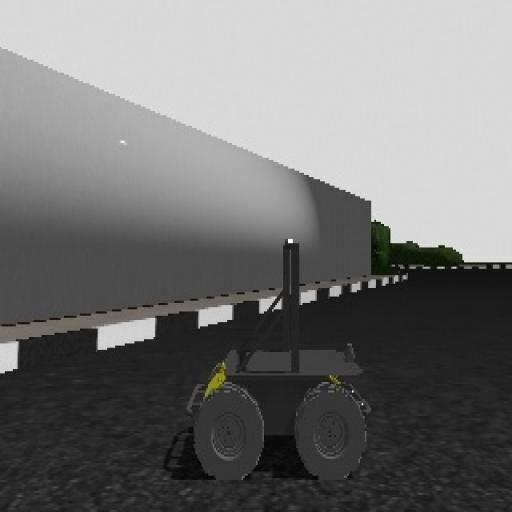huskya200: (184, 231, 384, 488)
